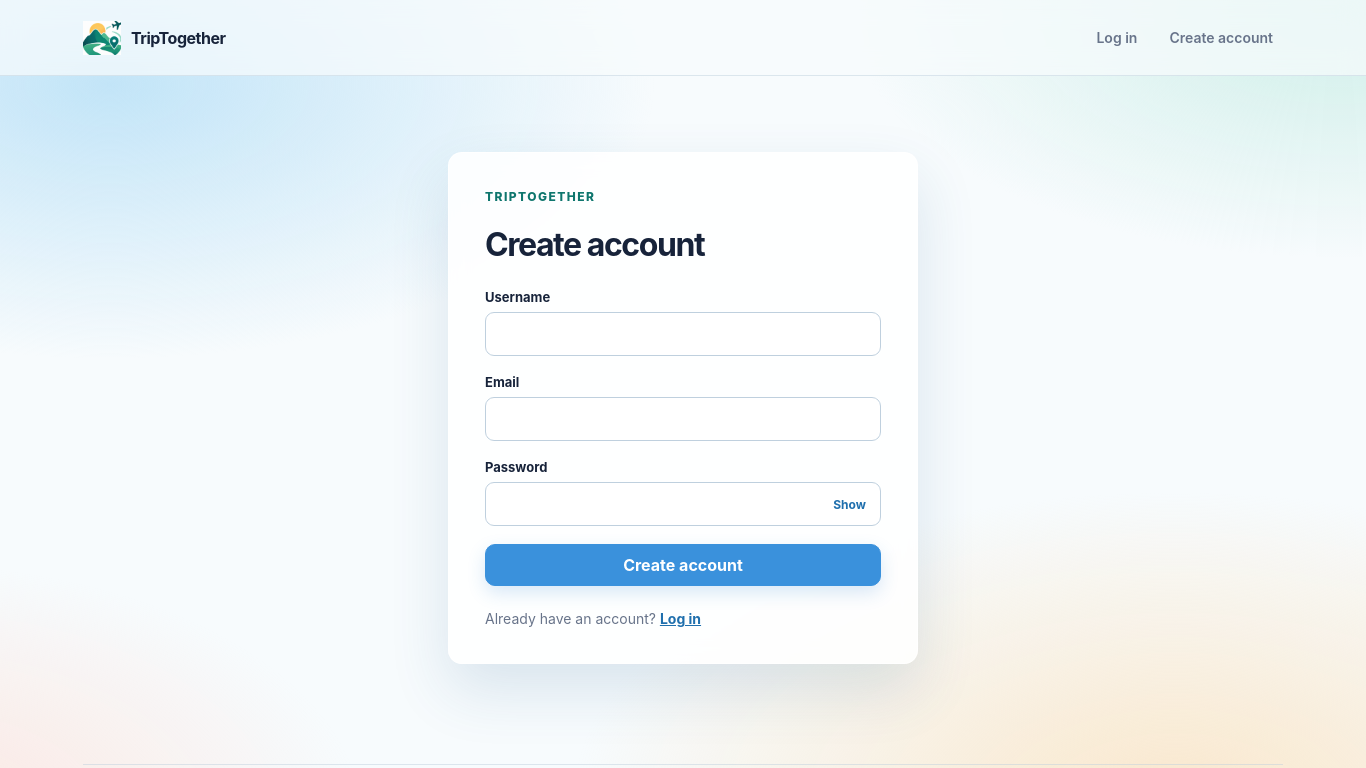
Test: Register and login pages › registers, then navigates to login with success feedback and no token
The width and height of the screenshot is (1366, 768).
Type "reader" into the field labelled "Username" at (683, 334), box [485,312,881,356]
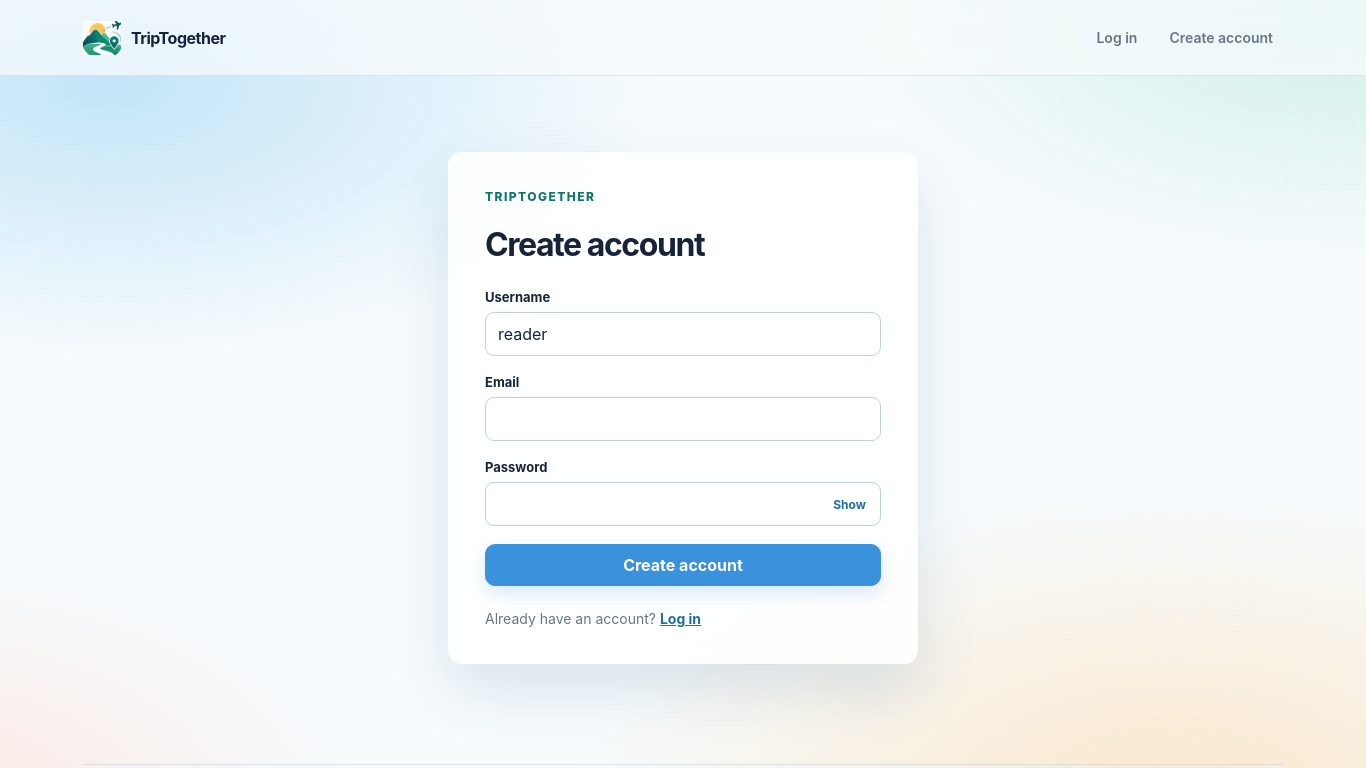
Type "reader@example.com" into the field labelled "Email" at (683, 419), box [485,397,881,441]
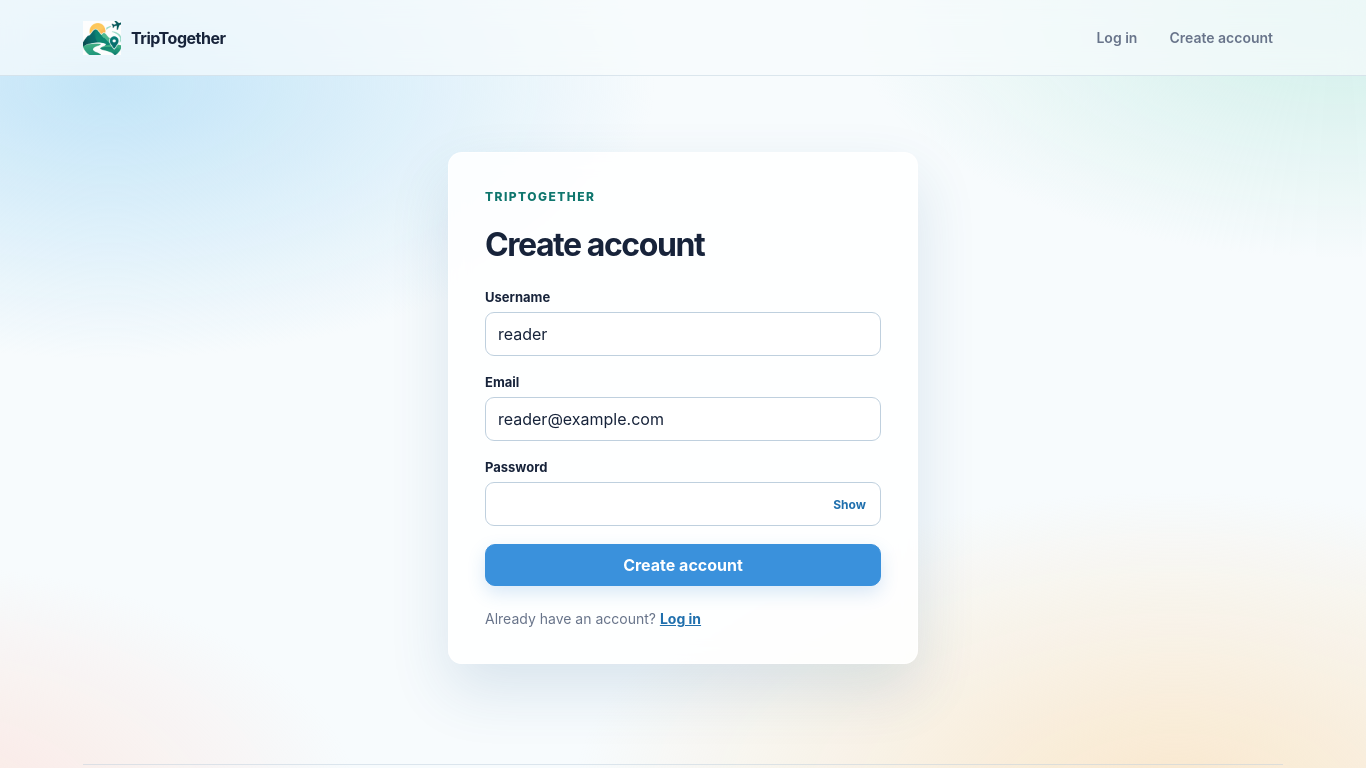
Type " local-test-input " into the password field labelled "Password" at (683, 504), box [485,482,881,526]
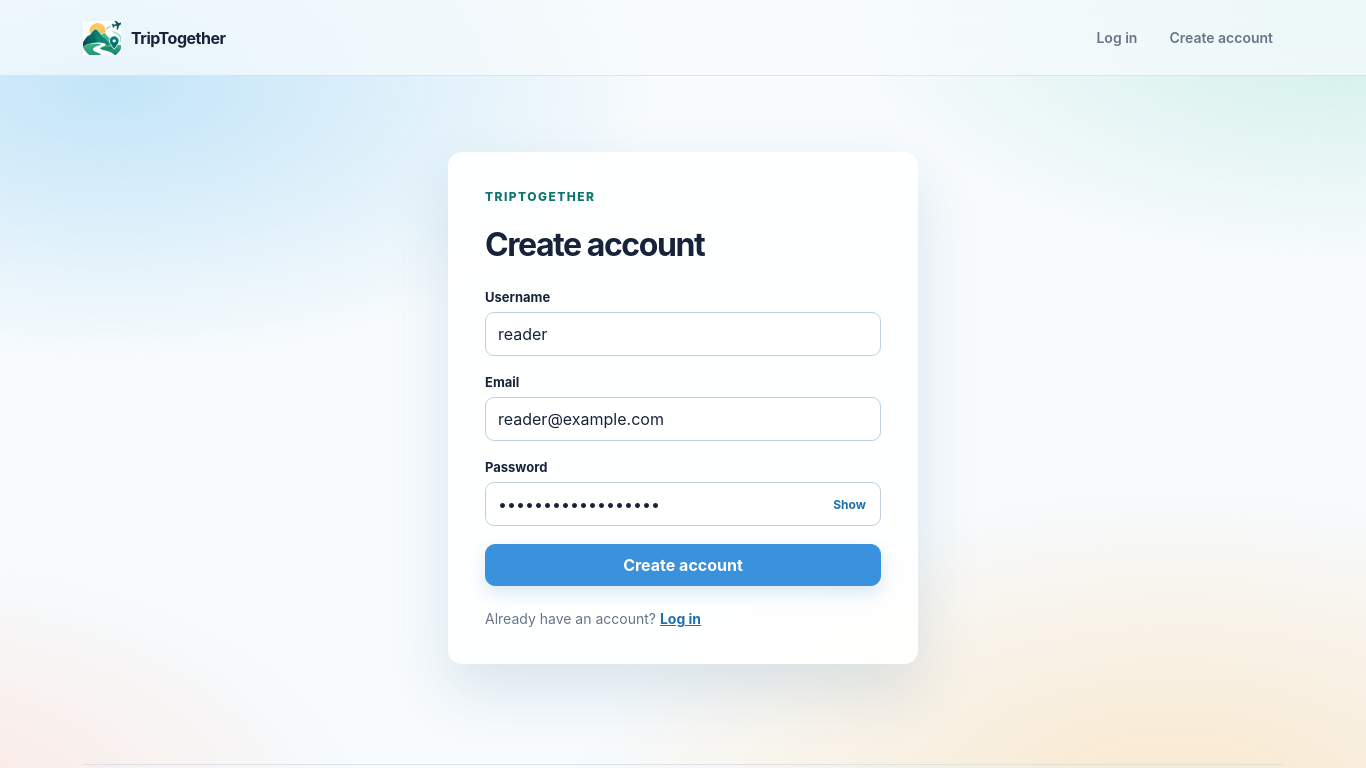
Click the button "Create account" at (683, 565), box [485,544,881,586]
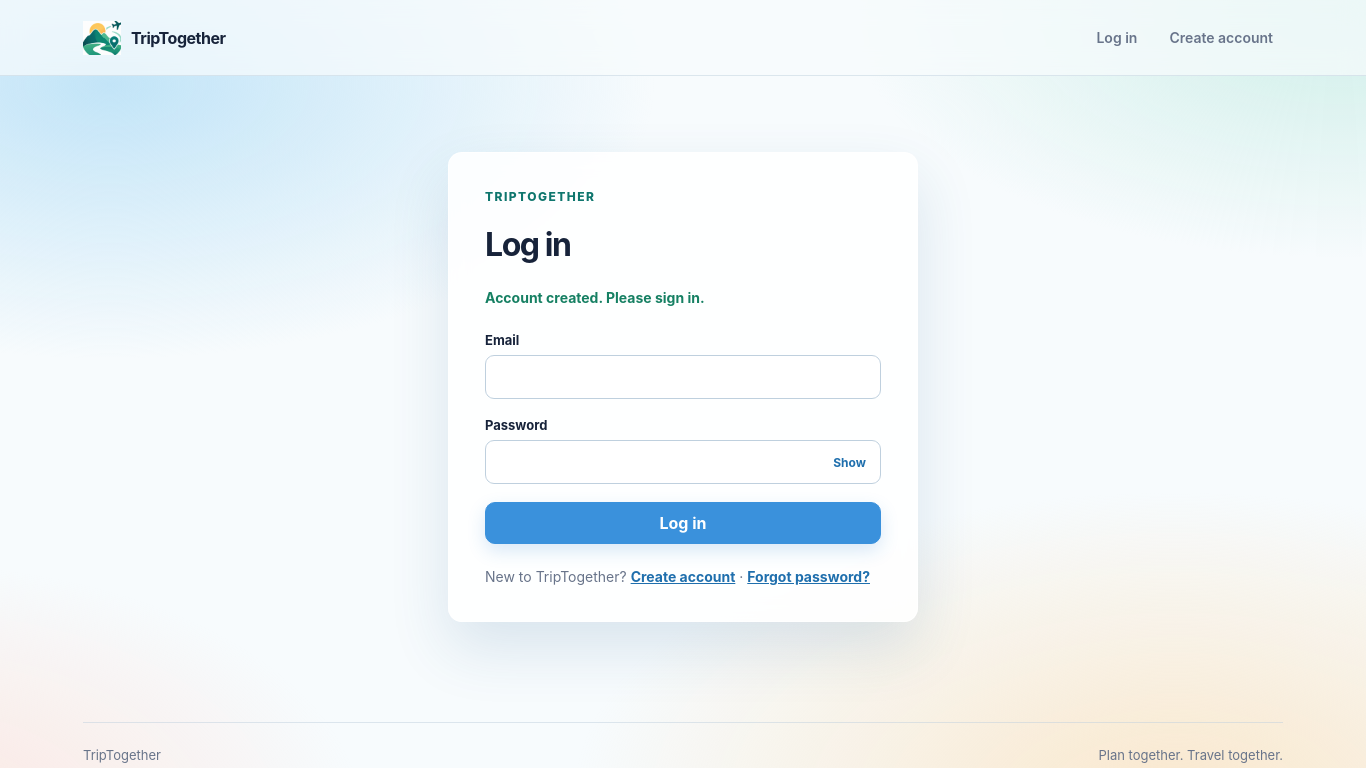
Now the text "Account created. Please sign in." is shown, box [485,289,705,306]
Now the password field labelled "Password" is empty, box [485,440,881,484]
